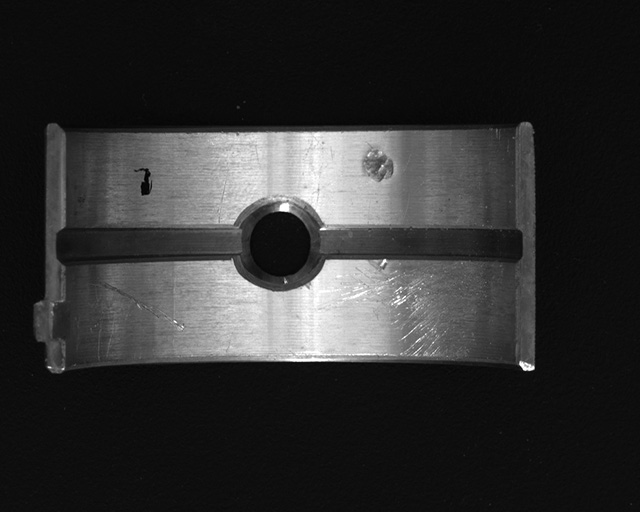blot: (133, 167, 154, 197)
bruise: (361, 141, 395, 183)
gap: (313, 224, 525, 265), (57, 225, 241, 263)
hole: (232, 198, 320, 290)
nick: (93, 279, 186, 332)
scratch: (318, 259, 507, 364)
